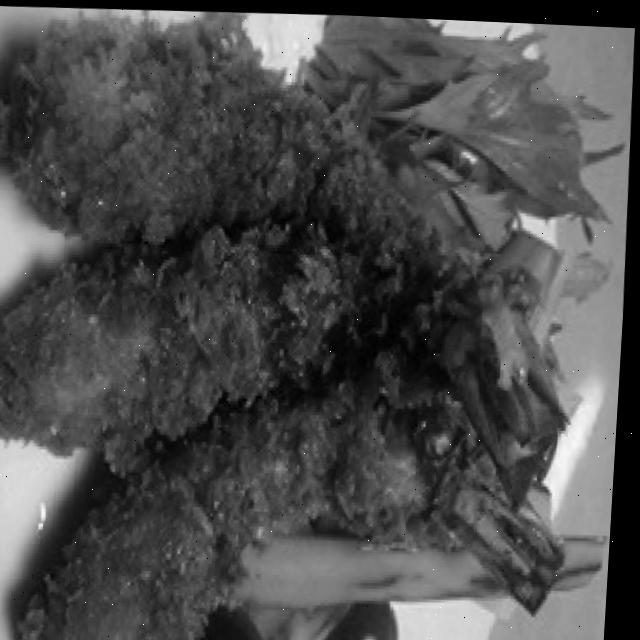炸货点心: (0, 0, 607, 640)
熟制海鲜: (0, 0, 607, 640)
